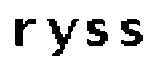r: (12, 16, 39, 51)
s: (84, 17, 111, 48), (118, 17, 144, 48)
y: (47, 13, 78, 60)
